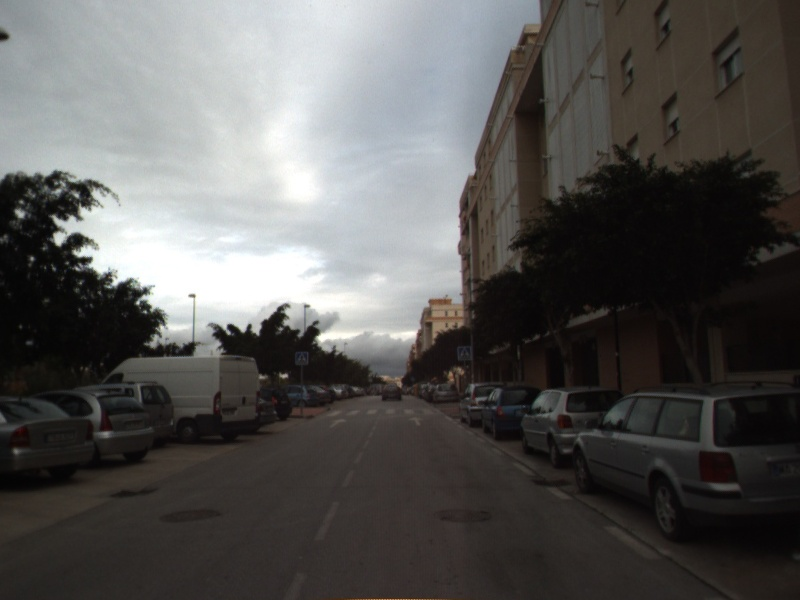STRAIGHT: (327, 416, 349, 430), (406, 414, 426, 428)
